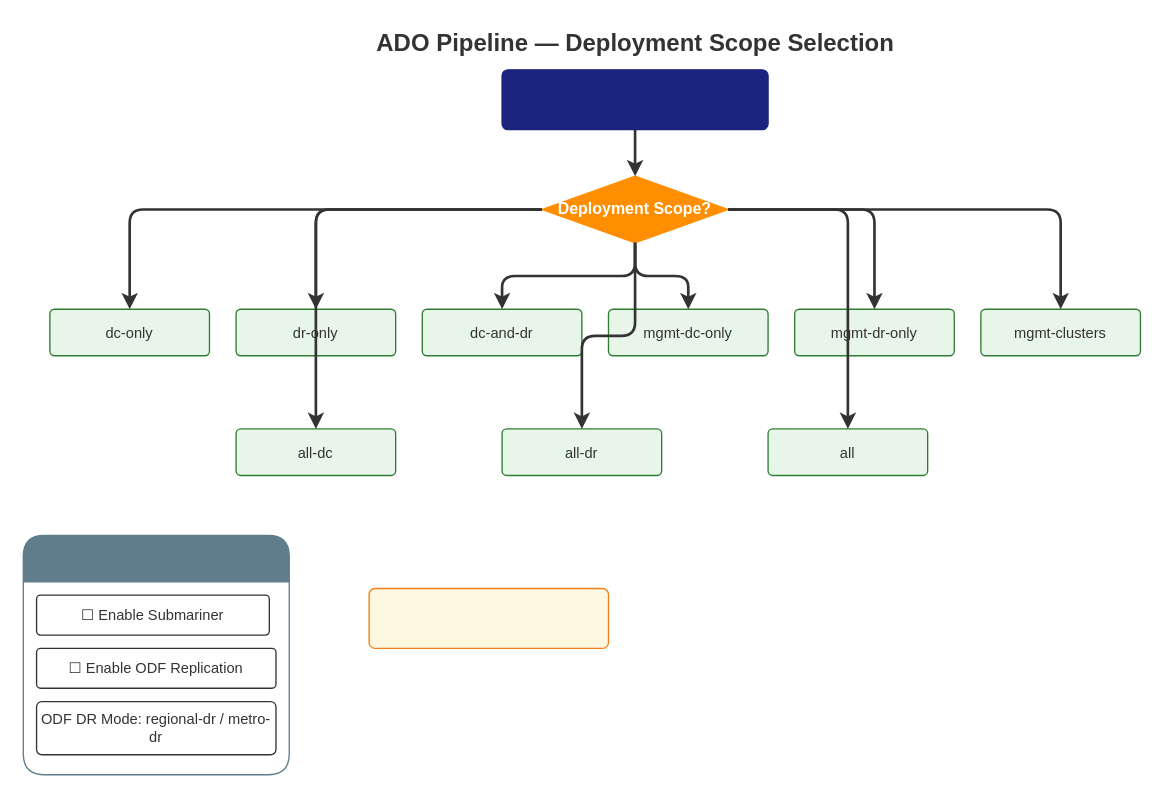
Some shapes in this 1164 by 798 pixel diagram are drawn without their labels. Each missing label, with the box of its shape:
ADO Pipeline Trigger: (501, 68, 768, 130)
Optional Toggles: (22, 534, 289, 775)
Terraform Action: plan / apply / destroy: (368, 587, 608, 648)
